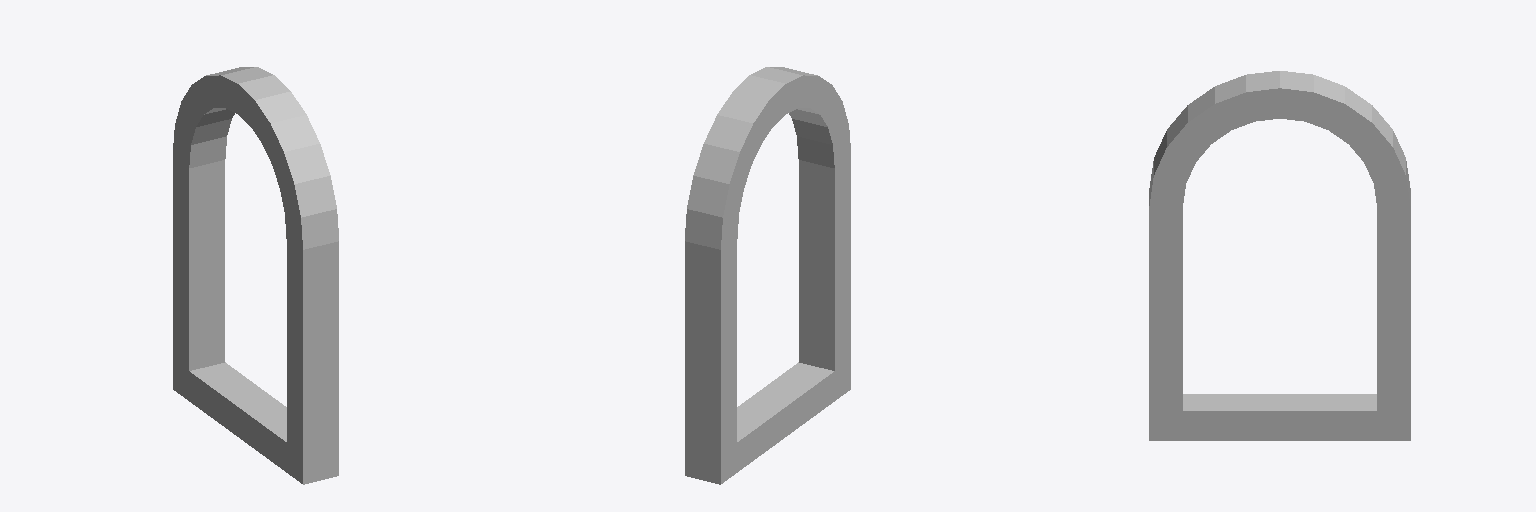
File: detail_023.obj
The picture shows the model from 3 angles: view 1: azimuth 30°, elevation 25°; view 2: azimuth 150°, elevation 25°; view 3: azimuth 270°, elevation 25°; orthographic projection.
Parts seen in each view (by area): view 1: detail_023; view 2: detail_023; view 3: detail_023.
Part boxes in pixels (left/top/right/bottom): detail_023: left=173, top=67, right=338, bottom=484; detail_023: left=685, top=67, right=850, bottom=484; detail_023: left=1149, top=71, right=1410, bottom=440.
Bounding box in the file's own units: 0.05 × 0.4663 × 0.3125.